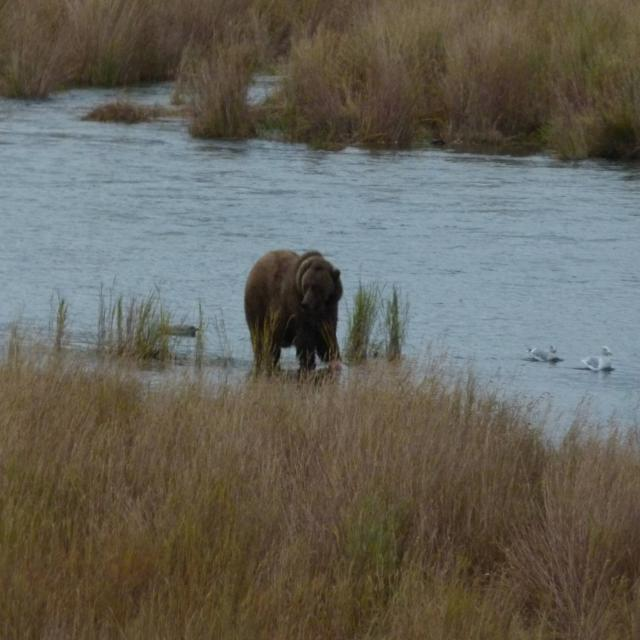bear face: (247, 253, 343, 373)
